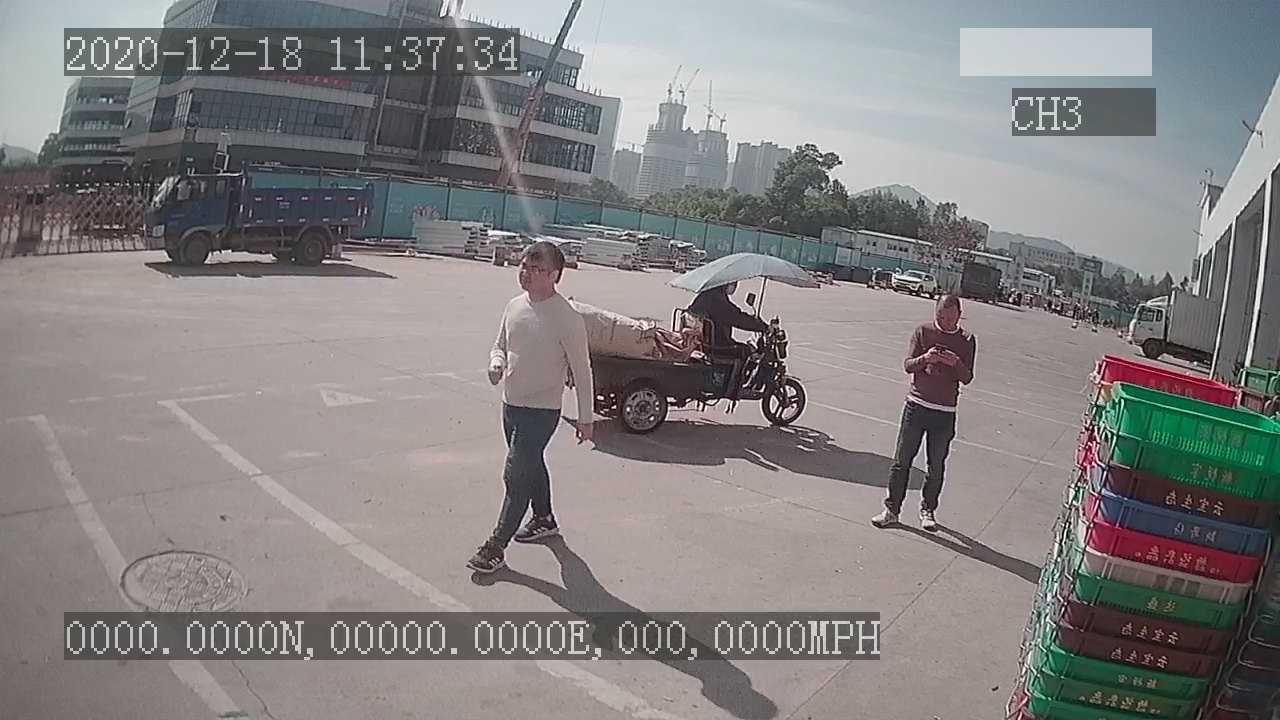person: (869, 290, 980, 537)
